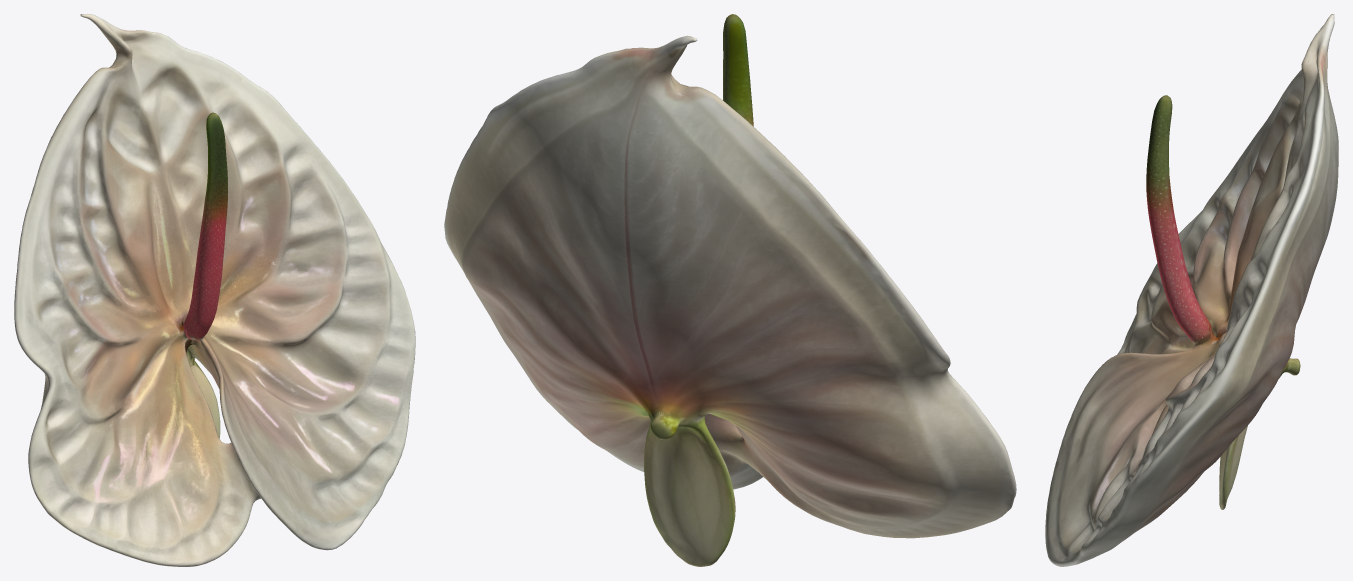
File: anthurium_f0a39f13.glb
3 renders of one model, left to right at view 1: azimuth 30°, elevation 25°; view 2: azimuth 150°, elevation 25°; view 3: azimuth 270°, elevation 25°, orthographic. The views are drawn at different scales.
Size of the model in its own units: 1.7 by 1.91 by 1.05.
Materials: 1 (1 with a texture image).
